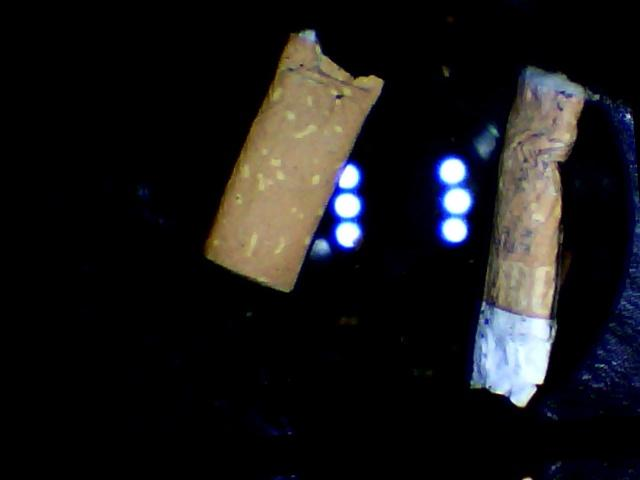megot: (174, 17, 419, 305), (424, 54, 615, 413)
